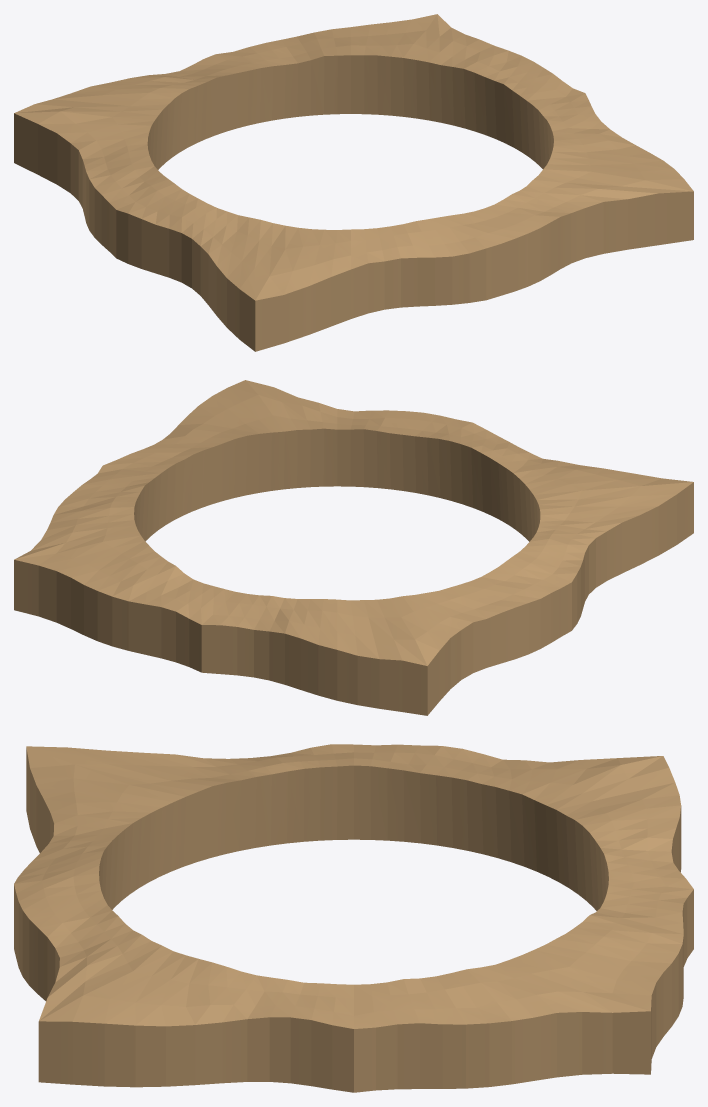
The model's file is breach_socket.glb.
3 views of the same model, one above another, from view 1: azimuth 30°, elevation 25°; view 2: azimuth 150°, elevation 25°; view 3: azimuth 270°, elevation 25° (orthographic). The views are drawn at different scales.
Parts seen in each view (by area): view 1: SocketCut; view 2: SocketCut; view 3: SocketCut.
Part boxes in pixels (<box>): SocketCut: <box>14,14,693,351</box>; SocketCut: <box>14,380,693,715</box>; SocketCut: <box>14,744,693,1092</box>.
Bounding box in the file's own units: 8 × 1 × 8.
